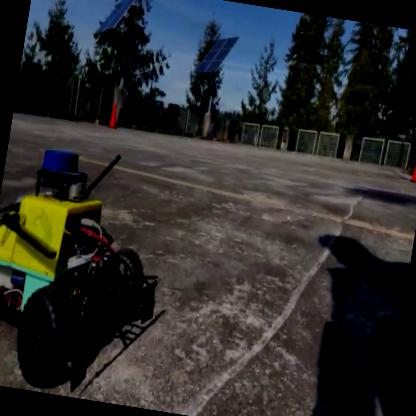cone: (107, 100, 122, 130), (411, 144, 415, 183)
mushr_car: (0, 136, 183, 401)
